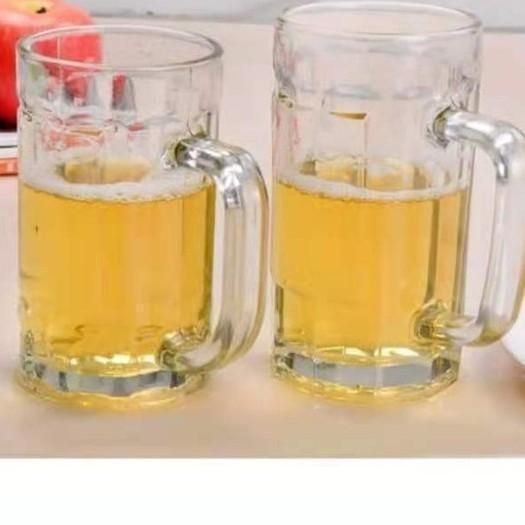glass-mug: (268, 0, 525, 412), (13, 21, 273, 418)
